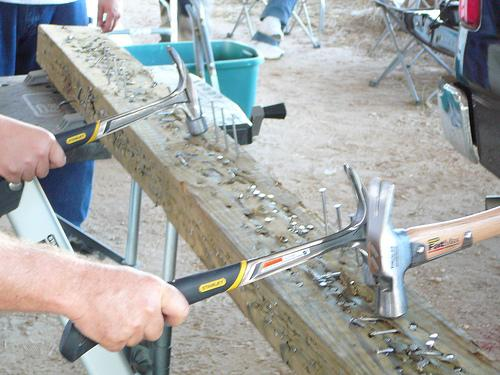hammer: (179, 163, 369, 300), (363, 176, 499, 318), (51, 42, 209, 147)
